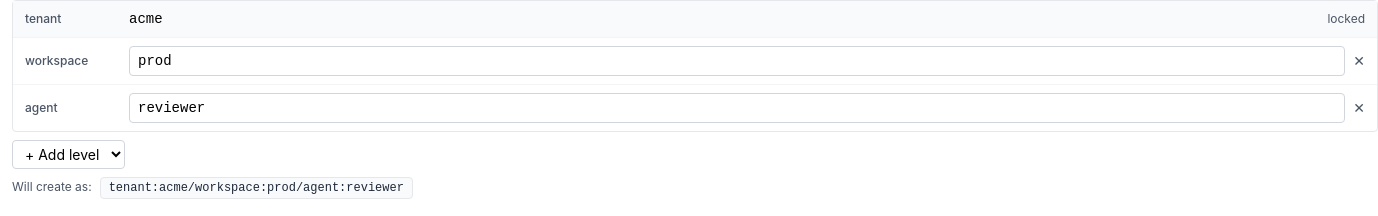
Test case: ScopeBuilder › adding + removing levels › removing a middle row leaves deeper rows intact (canonical order still preserved)
Click the 1st button "✕". click: click(1359, 61)
box: [1353,51,1365,71]
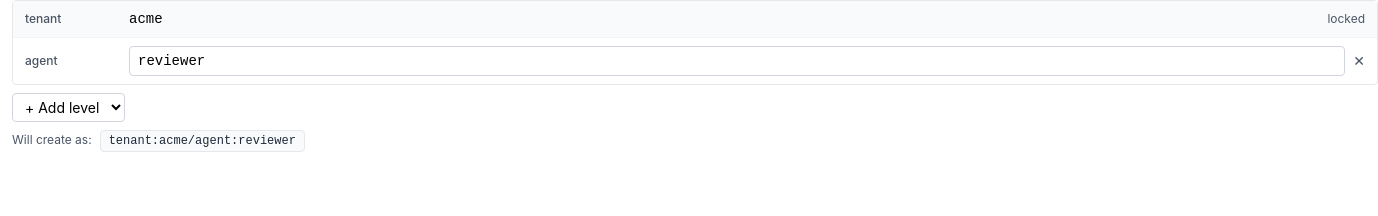
Check: the text "tenant:acme/agent:reviewer" is shown, box [100,130,305,152]
